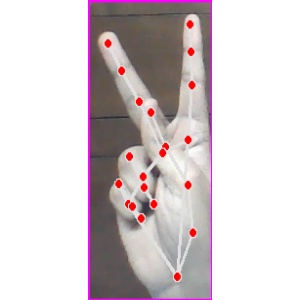K: (89, 2, 210, 300)
